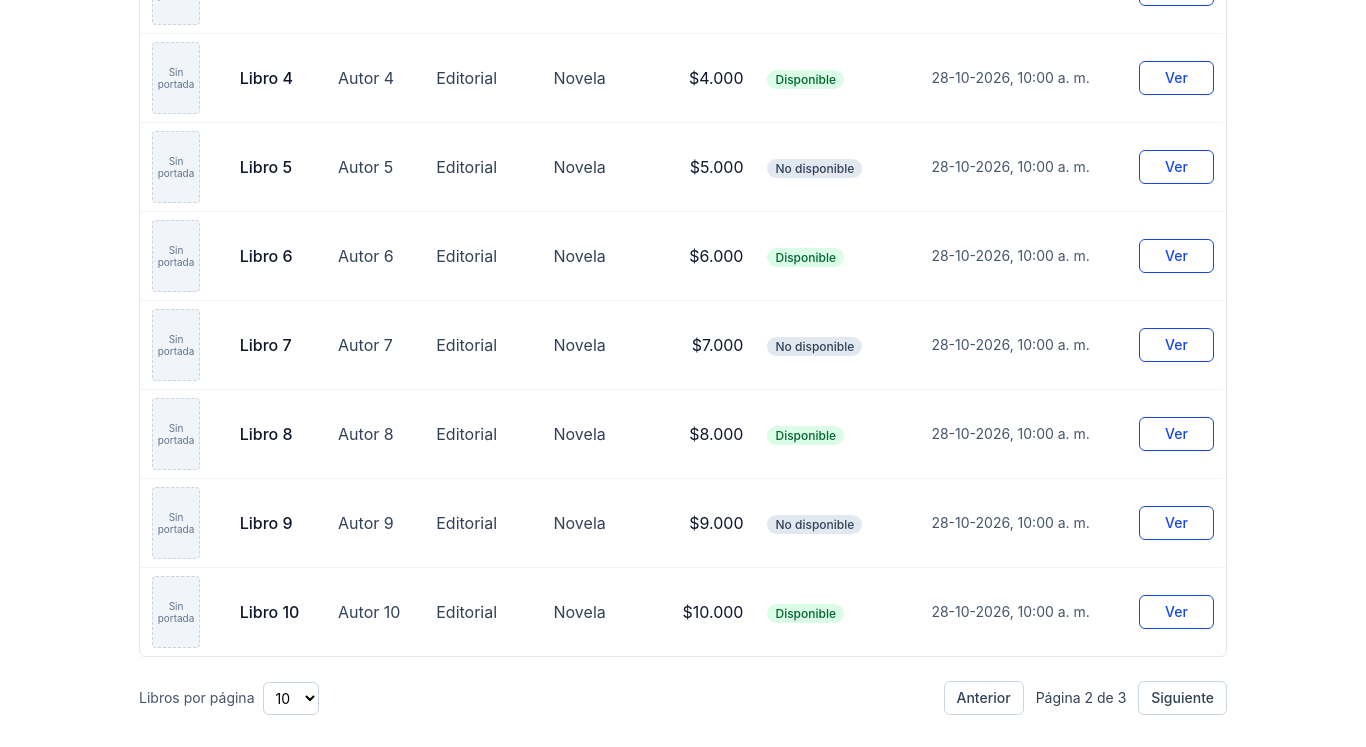
Test case: BooksPage › pagination › changes the page size and goes back to page 1
(page scrolled)
Expected: the text "Página 2 de 3" is shown, [1036,688,1126,708]
Select "20" in the dropdown labelled "Libros por página" at point(290, 698), box [262,682,318,714]
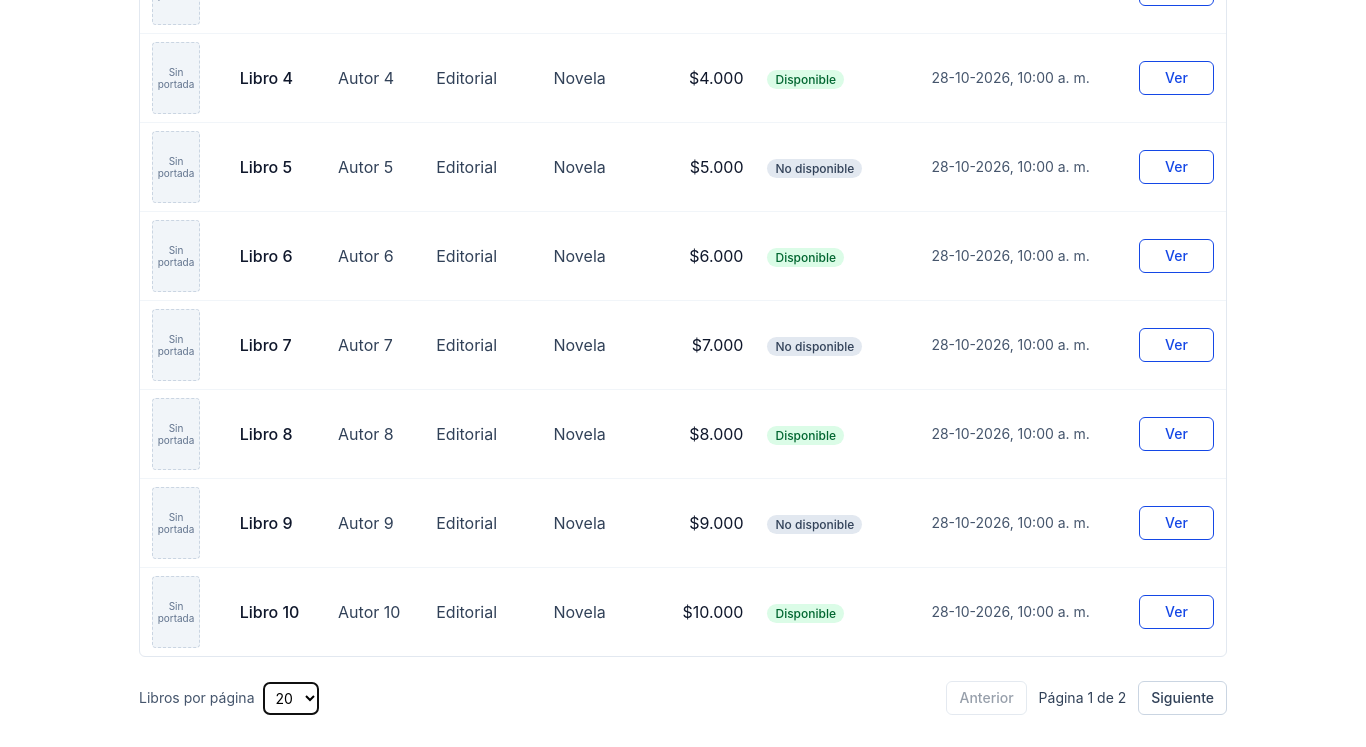
Expected: the text "Página 1 de 2" is shown, [1039,688,1126,708]
